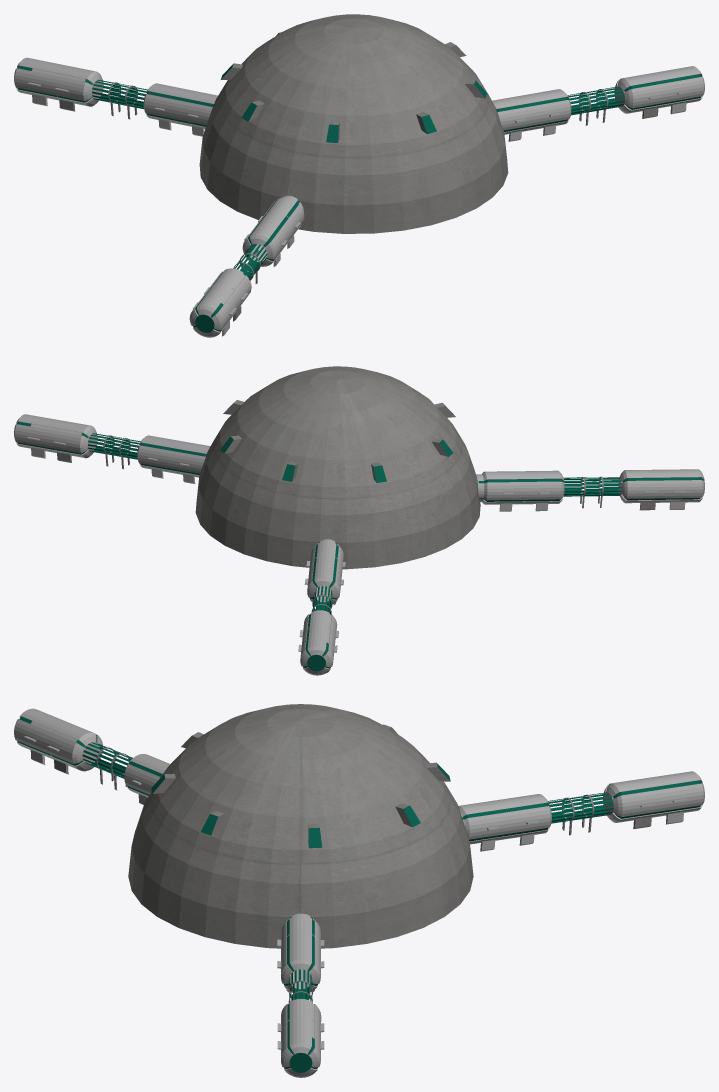
The model's file is moon_base.glb.
3 views of the same model, one above another, from view 1: azimuth 30°, elevation 25°; view 2: azimuth 150°, elevation 25°; view 3: azimuth 270°, elevation 25° (orthographic). The views are drawn at different scales.
Parts seen in each view (by area): view 1: Sphere; view 2: Sphere; view 3: Sphere.
Boxes of the visible parts, x1,y1,x2,y2 form: Sphere: [14, 14, 704, 337]; Sphere: [14, 366, 704, 675]; Sphere: [14, 704, 704, 1077].
Size of the model in its own units: 4.67 by 1.14 by 4.
3 materials, 2 textured.
